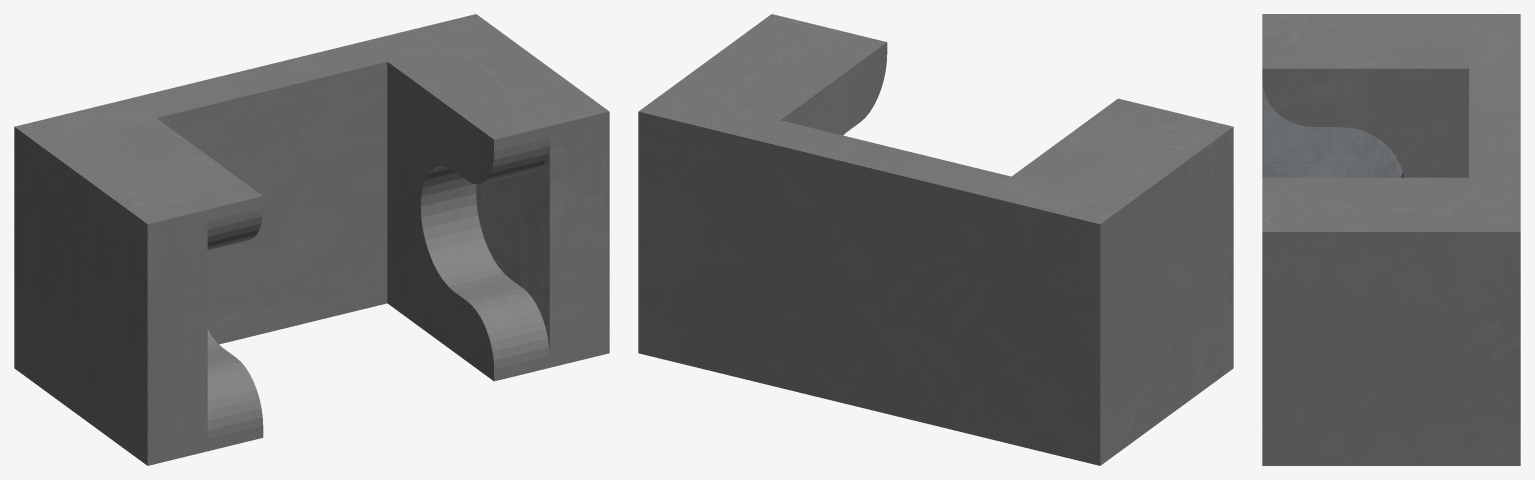
File: voltage_tester.glb
3 renders of one model, left to right at view 1: azimuth 30°, elevation 25°; view 2: azimuth 150°, elevation 25°; view 3: azimuth 270°, elevation 25°, orthographic. The views are drawn at different scales.
Visible parts, largest first — view 1: voltage_tester; view 2: voltage_tester; view 3: voltage_tester.
Part boxes in pixels (x1,y1,x2,y2): voltage_tester: [14, 14, 609, 465]; voltage_tester: [638, 14, 1233, 465]; voltage_tester: [1262, 14, 1520, 465].
Size of the model in its own units: 0.1 by 0.05 by 0.05.
Materials: 2 (2 with a texture image).
